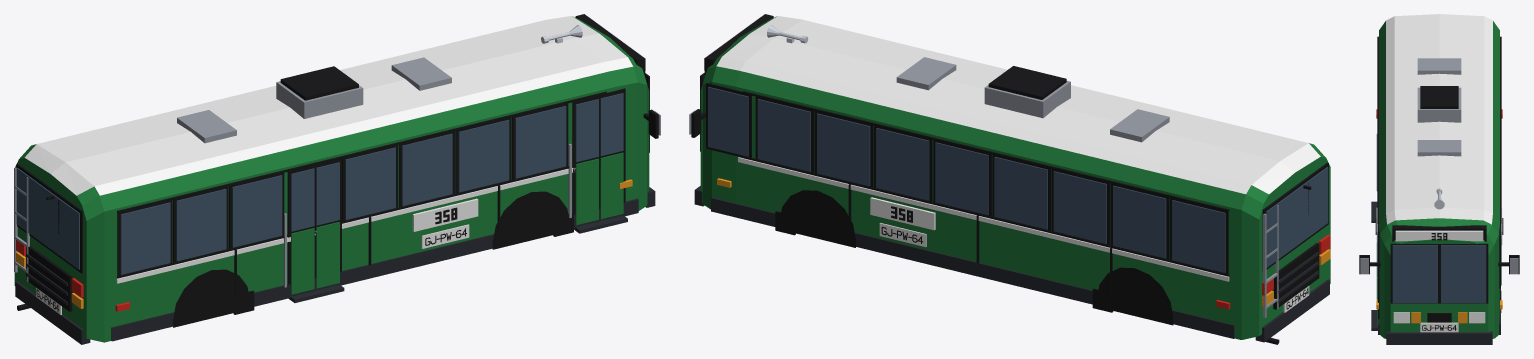
The model's file is micro_verde_body.obj.
3 renders of one model, left to right at view 1: azimuth 30°, elevation 25°; view 2: azimuth 150°, elevation 25°; view 3: azimuth 270°, elevation 25°, orthographic. The views are drawn at different scales.
Visible parts, largest first — view 1: micro_verde_body; view 2: micro_verde_body; view 3: micro_verde_body.
Boxes of the visible parts, x1,y1,x2,y2 form: micro_verde_body: (14,14,660,344); micro_verde_body: (689,14,1330,344); micro_verde_body: (1359,14,1519,344).
Size of the model in its own units: 10.8 by 3.2 by 3.32.
